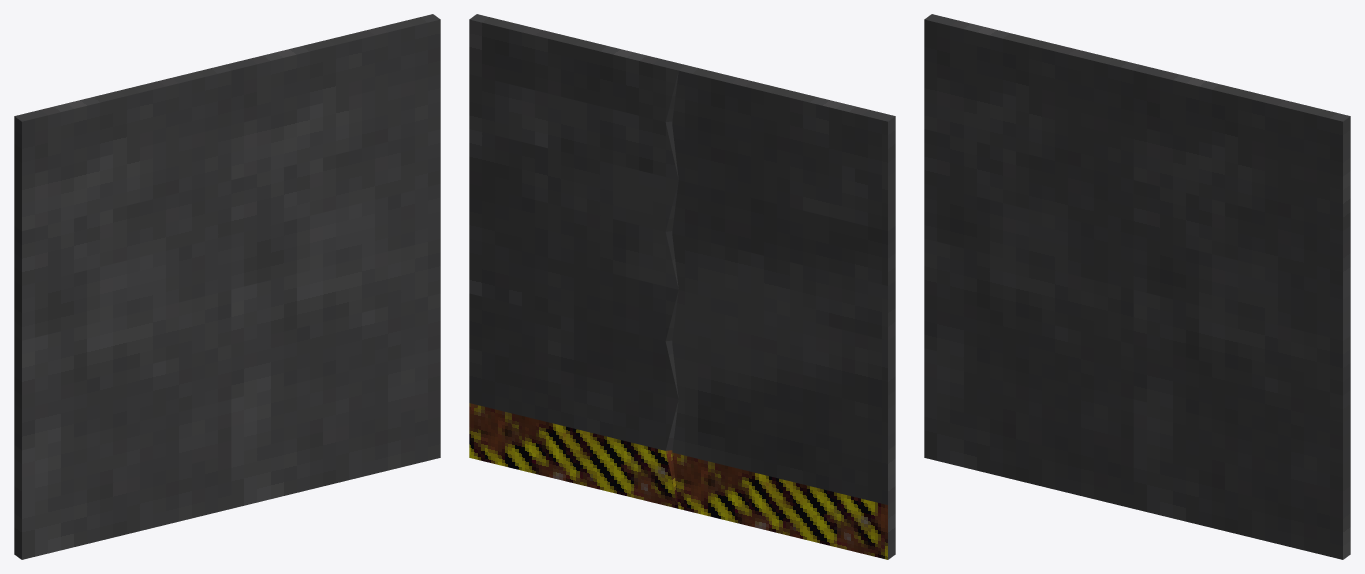
Rendered from heavy_duty_door.gltf.
3 views of the same model, side by side, from view 1: azimuth 30°, elevation 25°; view 2: azimuth 150°, elevation 25°; view 3: azimuth 330°, elevation 25° (orthographic).
Parts seen in each view (by area): view 1: Door (×2); view 2: Door (×2); view 3: Door (×2).
Boxes of the visible parts, <box> form: Door (×2): <box>14,14,440,559</box>; Door (×2): <box>469,14,895,559</box>; Door (×2): <box>924,14,1350,559</box>.
Bounding box in the file's own units: 2 × 2 × 0.0625.
Materials: 2 (2 with a texture image).
